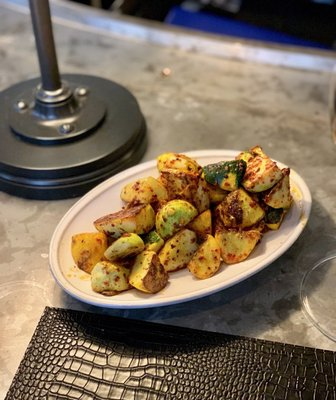curry: (0, 7, 336, 400)
sandwich: (0, 0, 142, 159), (1, 0, 108, 143)
